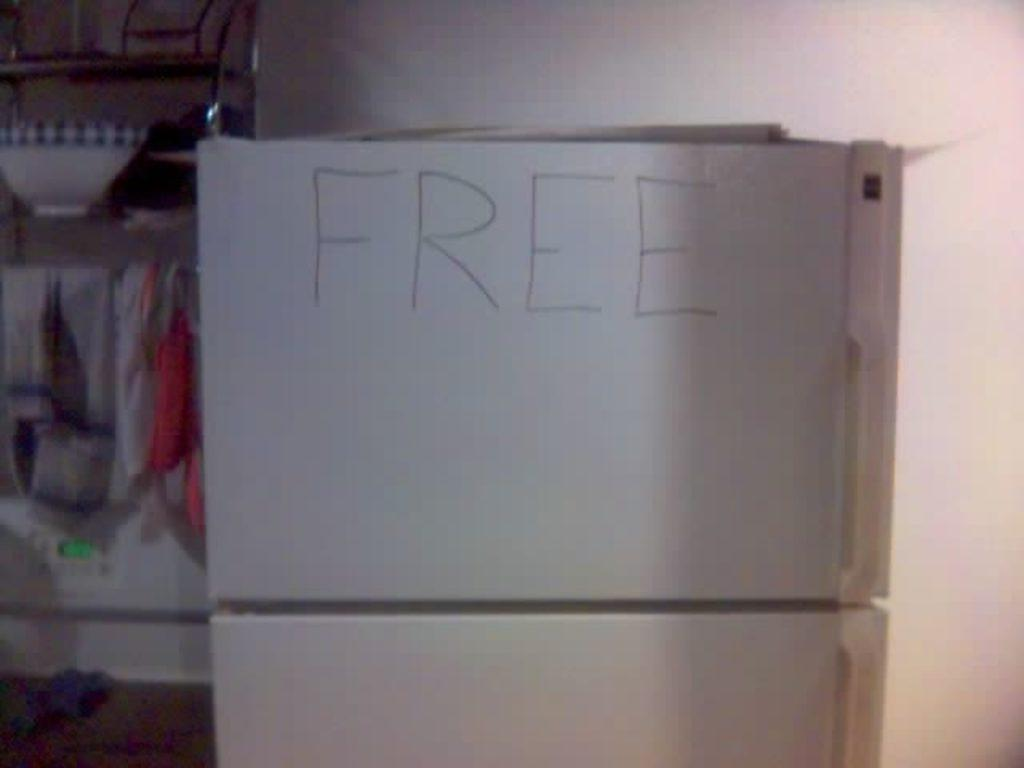handle: (842, 152, 892, 570), (829, 627, 887, 767)
